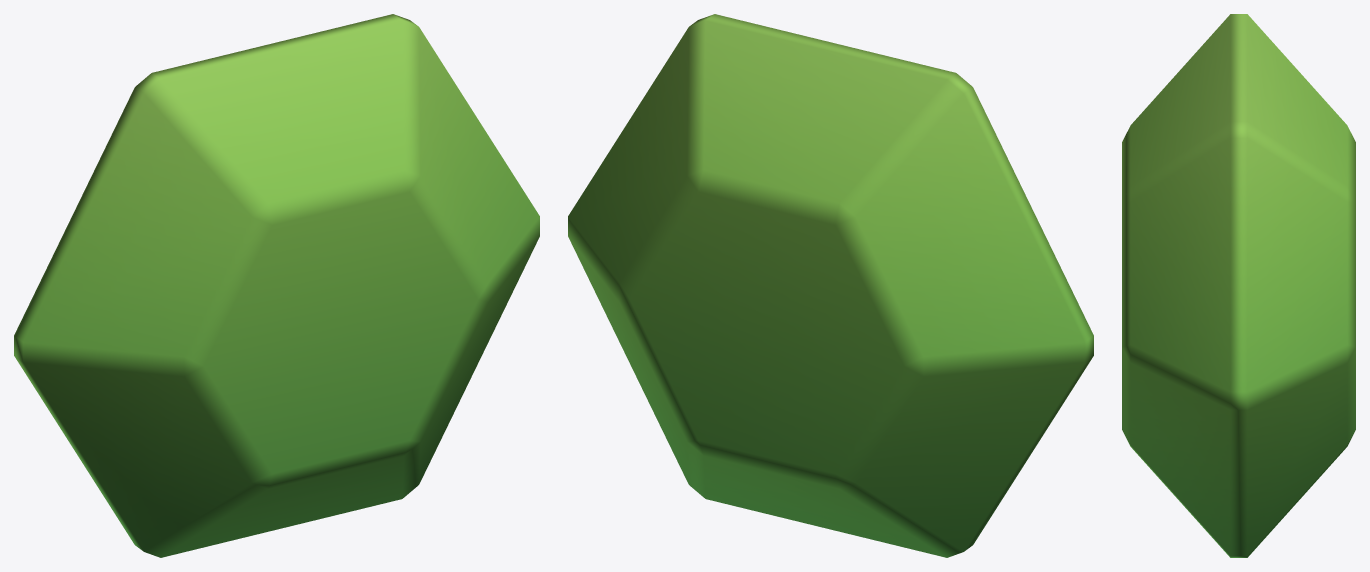
File: inferno-gem-001.glb
3 renders of one model, left to right at view 1: azimuth 30°, elevation 25°; view 2: azimuth 150°, elevation 25°; view 3: azimuth 270°, elevation 25°, orthographic. The views are drawn at different scales.
Visible parts, largest first — view 1: Gem_001; view 2: Gem_001; view 3: Gem_001.
Part boxes in pixels (box(x1,y1,x2,y2)): Gem_001: box(14, 14, 539, 557); Gem_001: box(568, 14, 1093, 557); Gem_001: box(1122, 14, 1355, 557).
Bounding box in the file's own units: 0.3324 × 0.2941 × 0.1427.
Materials: 1 (1 with a texture image).
